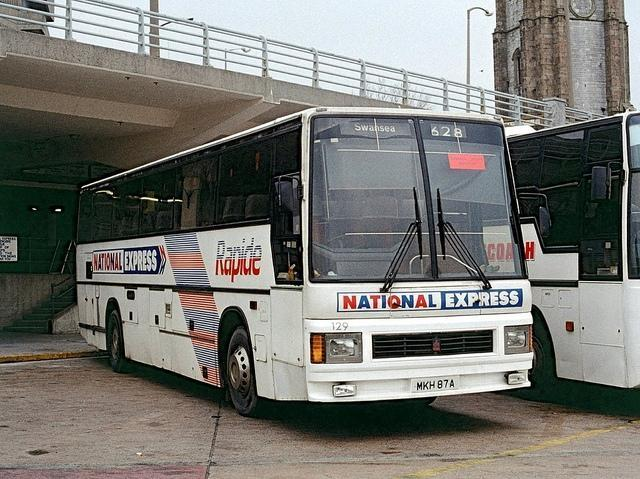bus: (72, 106, 536, 418), (504, 106, 638, 400)
